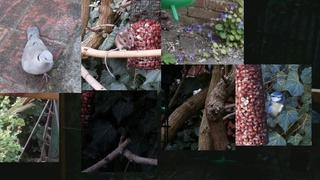blue tit: (262, 91, 285, 125)
collared dove: (21, 27, 55, 84)
mouse: (104, 27, 134, 78)
